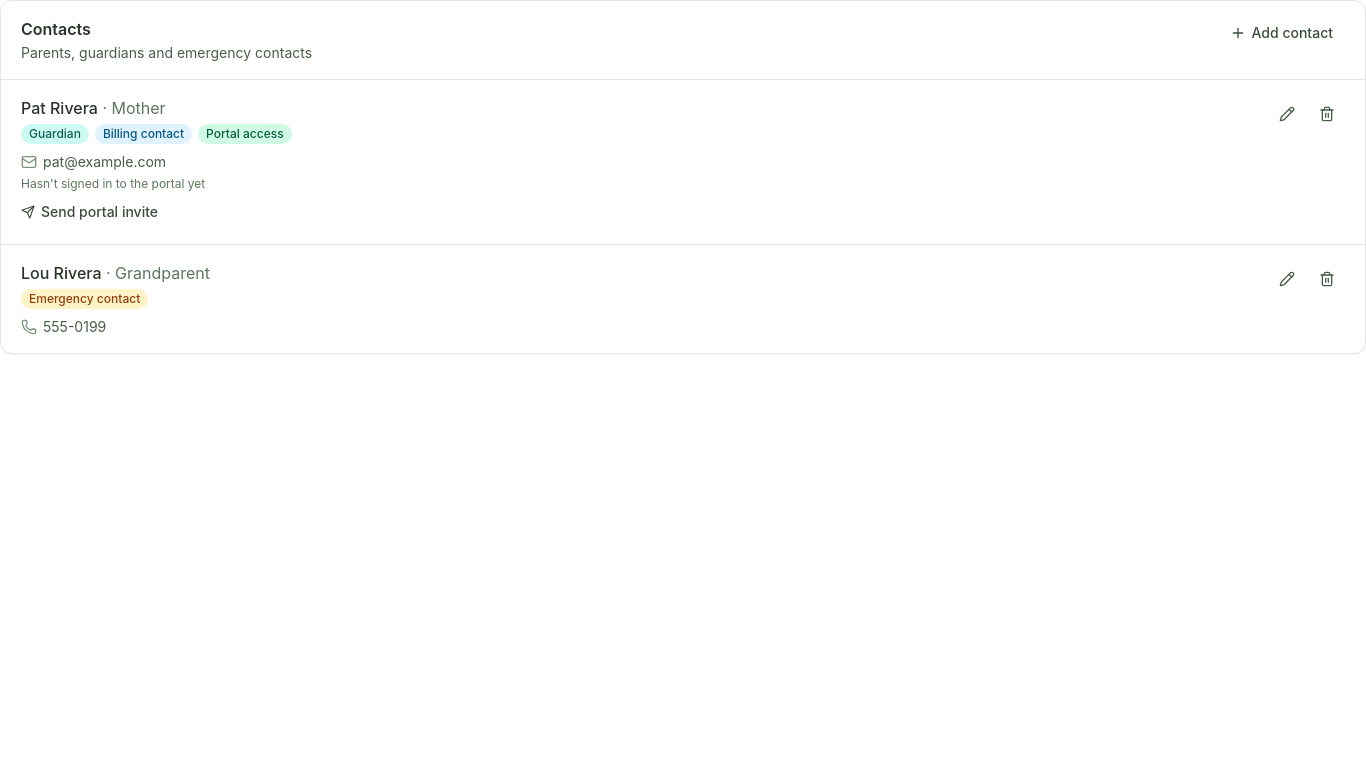
Test: ContactsSection › lists contacts with their roles and portal sign-in status
expect the text "Guardian" is shown: met, box x1=21 y1=124 x2=89 y2=144
expect the text "Billing contact" is shown: met, box x1=95 y1=124 x2=192 y2=144
Click the button with aria-label "Send portal invite to Pat Rivera". click: (90, 212)
box: x1=9 y1=196 x2=170 y2=228
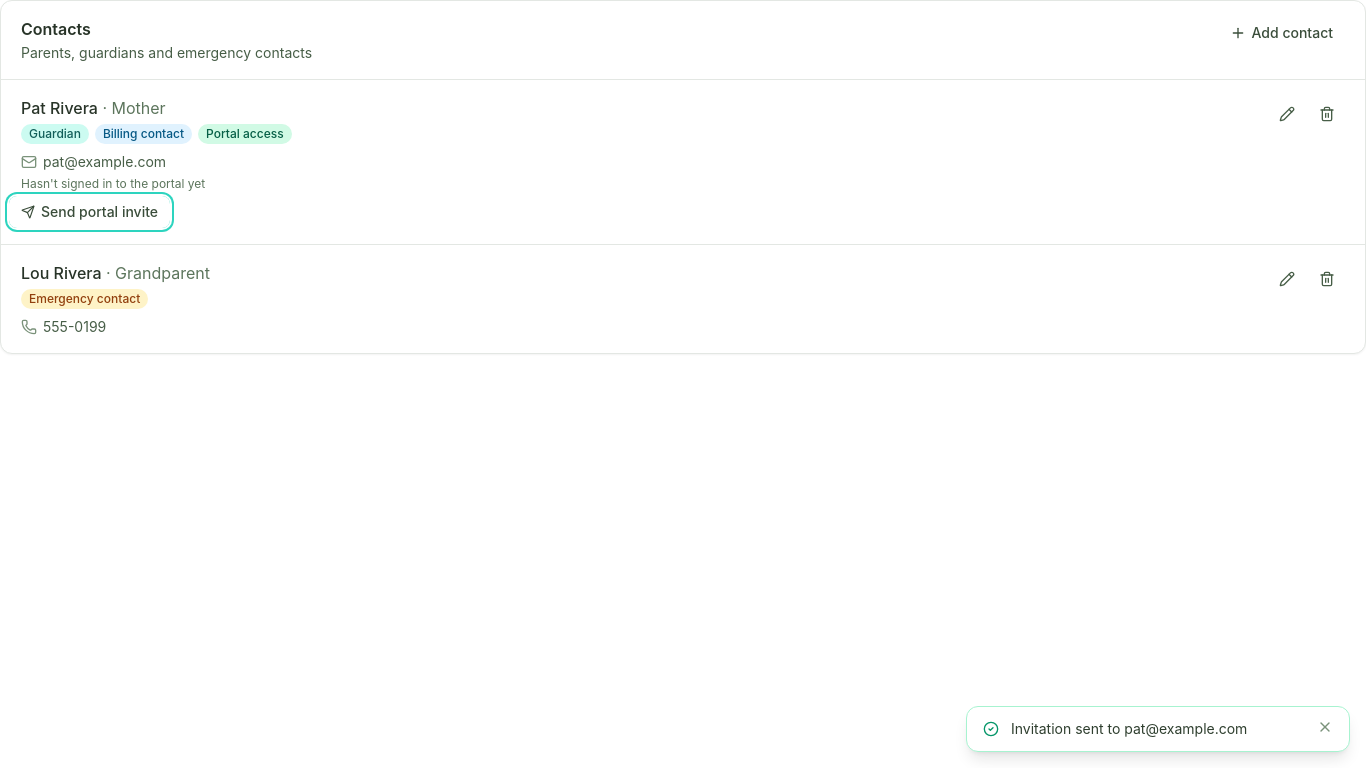
expect the text "Invitation sent to pat@example.com" is shown: met, box x1=1011 y1=720 x2=1247 y2=737
